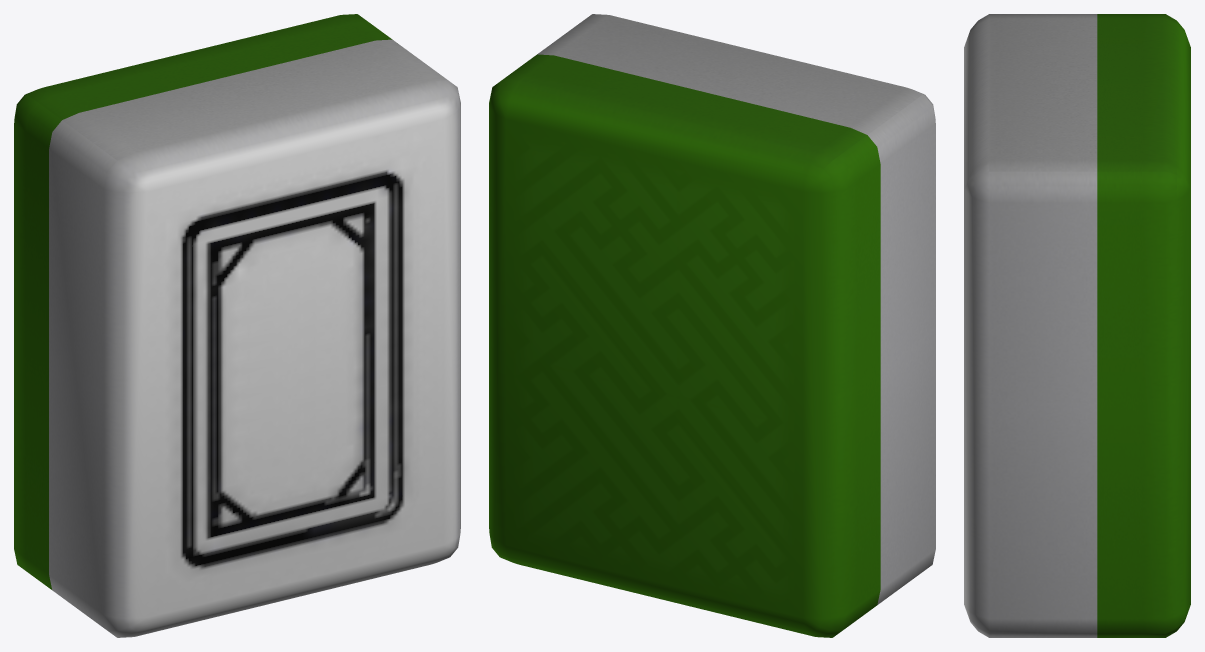
Rendered from majiangpai.FBX.
The picture shows the model from 3 angles, left to right: view 1: azimuth 30°, elevation 25°; view 2: azimuth 150°, elevation 25°; view 3: azimuth 270°, elevation 25°; orthographic projection. The views are drawn at different scales.
Visible parts, largest first — view 1: baiban_Model, wan_5_Model; view 2: baiban_Model, wan_5_Model; view 3: baiban_Model, wan_5_Model.
Part boxes in pixels (<box>): baiban_Model: <box>14,14,460,637</box>; wan_5_Model: <box>14,15,443,583</box>; baiban_Model: <box>489,14,935,637</box>; wan_5_Model: <box>489,14,935,637</box>; baiban_Model: <box>964,14,1190,637</box>; wan_5_Model: <box>1097,26,1190,632</box>.
Bounding box in the file's own units: 2.79 × 3.61 × 1.57.
1 material, 1 textured.
